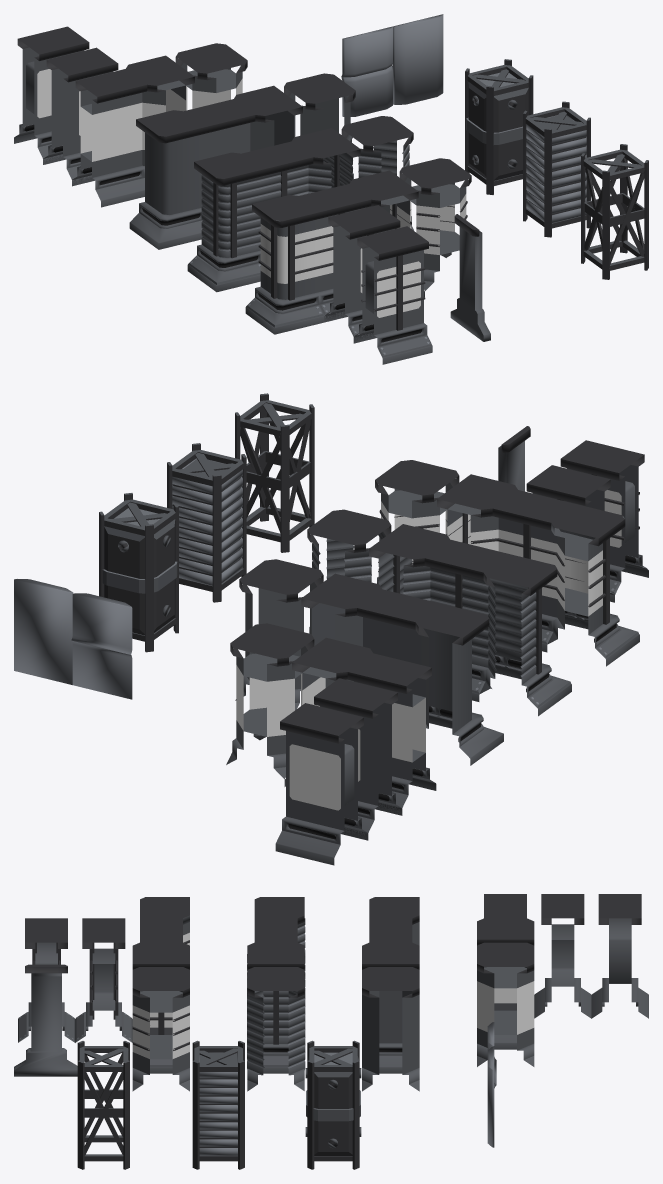
The model's file is walls.fbx.
The picture shows the model from 3 angles, top to bottom: view 1: azimuth 30°, elevation 25°; view 2: azimuth 150°, elevation 25°; view 3: azimuth 270°, elevation 25°; orthographic projection. The views are drawn at different scales.
Visible parts, largest first — view 1: Reinforced Glass Wall I Solo, Reinforced Glass Wall L, Reinforced Wall L, Glass Wall I, Wall L, Reinforced Wall Phase 1, Wall Phase 1, Wall Girder, Reinforced Glass Wall X, Glass Wall I Solo, Glass Wall I End, Reinforced Glass Wall I End (+13 smaller); view 2: Glass Wall I Solo, Reinforced Wall Phase 1, Wall Phase 1, Wall Girder, Reinforced Glass Wall L, Reinforced Wall L, Glass Wall X, Wall L, Glass Wall I, Glass Wall I End, Reinforced Wall I, Wall Panel 2 (+13 smaller); view 3: Wall Phase 1, Reinforced Wall Phase 1, Reinforced Glass Wall X, Glass Wall X, Wall Girder, Wall X, Reinforced Wall X, Wall End, Reinforced Glass Wall I End, Glass Wall I End, Glass Wall I Solo, Reinforced Wall T (+12 smaller).
Boxes of the visible parts, left/top/right/bottom form: Reinforced Glass Wall I Solo: left=353, top=226, right=432, bottom=364; Reinforced Glass Wall L: left=245, top=195, right=324, bottom=334; Reinforced Wall L: left=187, top=152, right=263, bottom=292; Glass Wall I: left=72, top=69, right=147, bottom=207; Wall L: left=129, top=110, right=205, bottom=249; Reinforced Wall Phase 1: left=523, top=101, right=590, bottom=237; Wall Phase 1: left=465, top=59, right=533, bottom=194; Wall Girder: left=581, top=144, right=648, bottom=279; Reinforced Glass Wall X: left=399, top=158, right=471, bottom=290; Glass Wall I Solo: left=14, top=26, right=89, bottom=164; Glass Wall I End: left=43, top=47, right=118, bottom=185; Reinforced Glass Wall I End: left=324, top=205, right=400, bottom=343; Glass Wall I Solo: left=275, top=703, right=368, bottom=865; Reinforced Wall Phase 1: left=167, top=443, right=246, bottom=602; Wall Phase 1: left=99, top=493, right=178, bottom=652; Wall Girder: left=235, top=393, right=314, bottom=552; Reinforced Glass Wall L: left=547, top=504, right=639, bottom=666; Reinforced Wall L: left=479, top=554, right=571, bottom=716; Glass Wall X: left=226, top=623, right=314, bottom=779; Wall L: left=415, top=603, right=503, bottom=765; Glass Wall I: left=347, top=653, right=436, bottom=815; Glass Wall I End: left=314, top=678, right=402, bottom=840; Reinforced Wall I: left=424, top=539, right=513, bottom=701; Wall Panel 2: left=71, top=593, right=132, bottom=699; Wall Phase 1: left=305, top=1040, right=361, bottom=1169; Reinforced Wall Phase 1: left=192, top=1040, right=244, bottom=1169; Reinforced Glass Wall X: left=132, top=967, right=189, bottom=1091; Glass Wall X: left=477, top=942, right=534, bottom=1066; Wall Girder: left=77, top=1041, right=129, bottom=1169; Wall X: left=362, top=967, right=419, bottom=1091; Reinforced Wall X: left=247, top=967, right=305, bottom=1091; Wall End: left=14, top=964, right=77, bottom=1076; Reinforced Glass Wall I End: left=75, top=918, right=132, bottom=1042; Glass Wall I End: left=534, top=894, right=591, bottom=1018; Glass Wall I Solo: left=591, top=894, right=648, bottom=1018; Reinforced Wall T: left=247, top=942, right=305, bottom=1073.
Size of the model in its own units: 701 by 206 by 1107.
